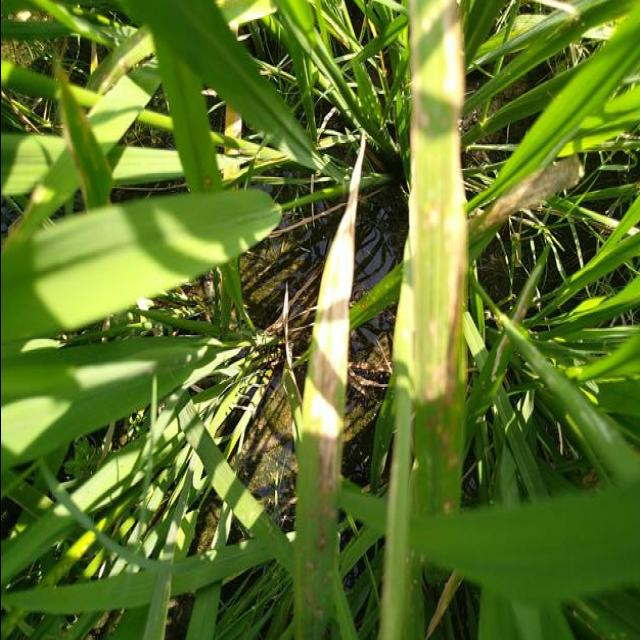Leaf Streak: (292, 135, 365, 640), (406, 0, 466, 400), (471, 153, 586, 234), (54, 69, 113, 208), (433, 419, 457, 515)
